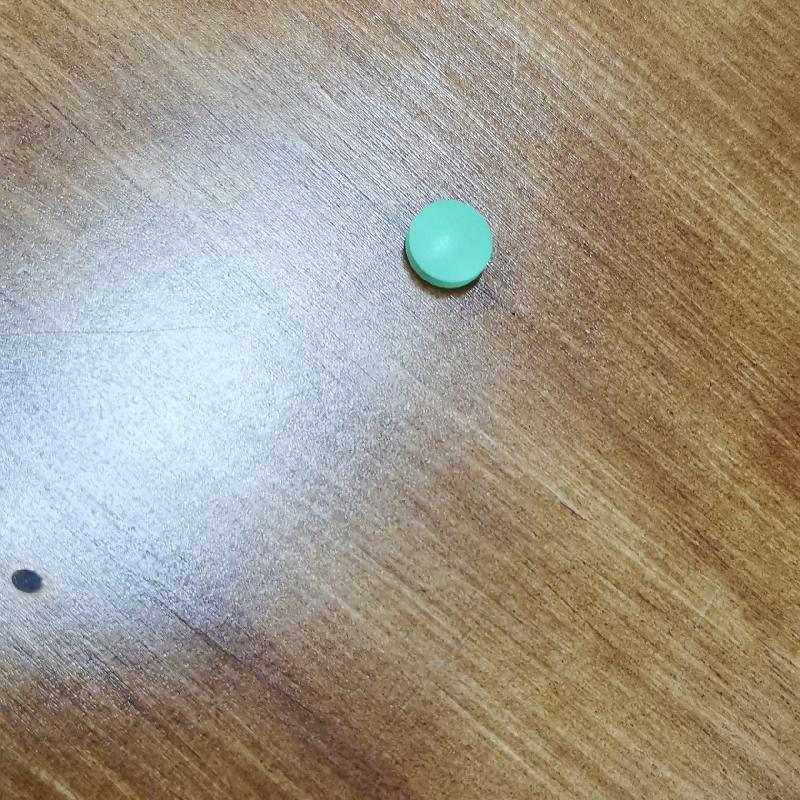pills: (393, 181, 508, 311)
